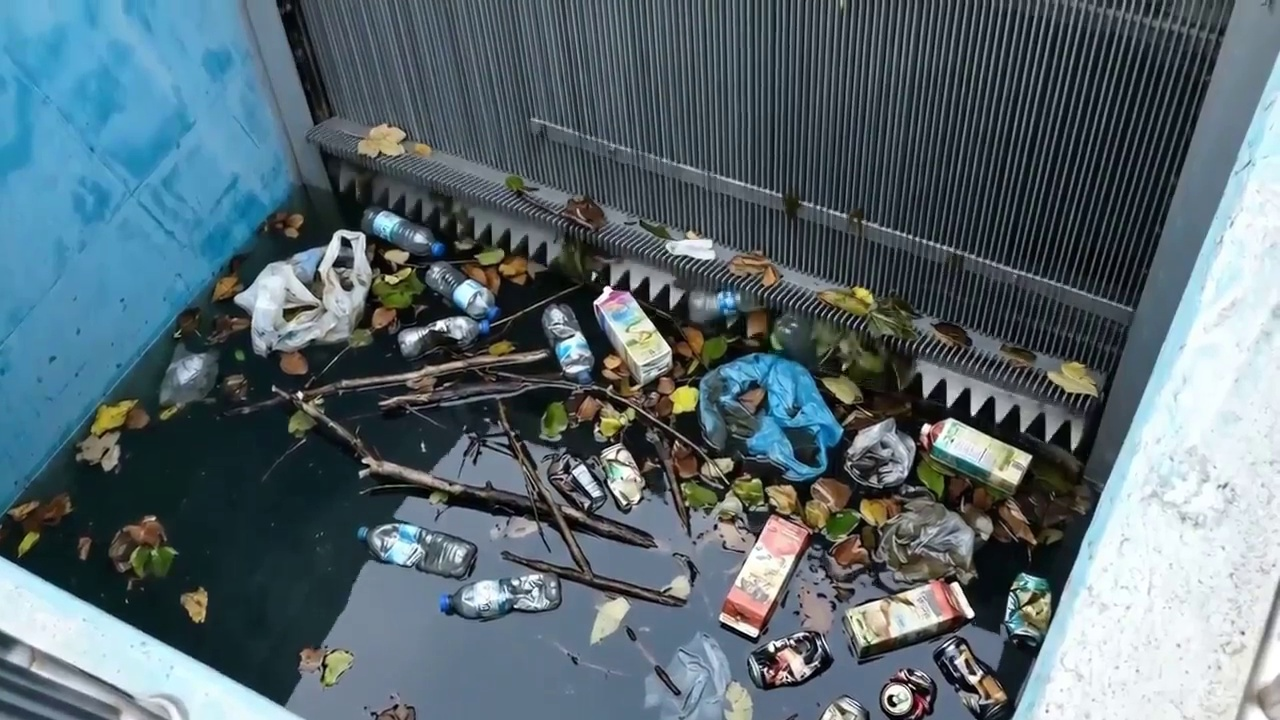debris: (307, 288, 1030, 660), (241, 206, 524, 361), (748, 579, 1015, 719), (235, 231, 497, 359), (357, 440, 655, 547), (440, 555, 687, 619), (645, 633, 730, 719), (359, 522, 475, 578), (720, 541, 789, 626), (818, 287, 915, 339), (361, 207, 447, 258), (109, 516, 175, 577), (81, 400, 148, 460), (159, 345, 218, 405), (638, 220, 717, 260), (1005, 573, 1051, 639), (358, 124, 429, 157), (728, 253, 779, 287), (1049, 362, 1098, 395), (561, 196, 605, 230), (504, 175, 532, 199), (19, 531, 33, 550)
